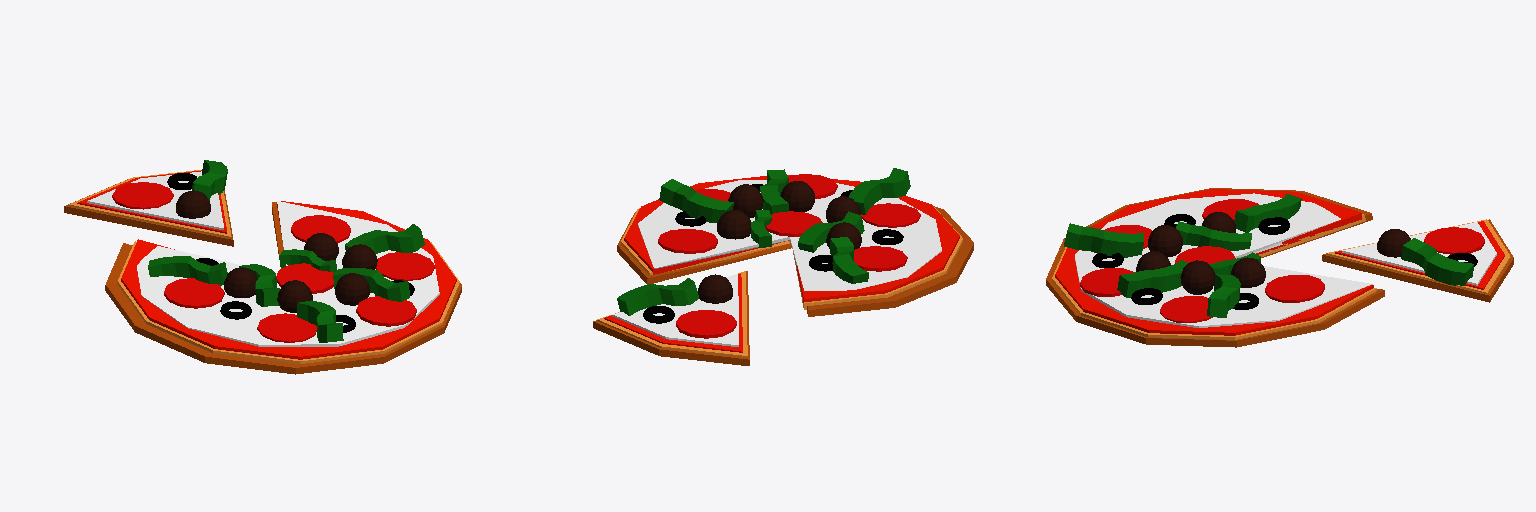
3 renders of one model, left to right at view 1: azimuth 30°, elevation 25°; view 2: azimuth 150°, elevation 25°; view 3: azimuth 270°, elevation 25°, orthographic.
Visible parts, largest first — view 1: group[number redacted], group[number redacted], group[number redacted], group[number redacted], group[number redacted], group[number redacted], group[number redacted], group[number redacted]; view 2: group[number redacted], group[number redacted], group[number redacted], group[number redacted], group[number redacted], group[number redacted], group[number redacted], group[number redacted]; view 3: group[number redacted], group[number redacted], group[number redacted], group[number redacted], group[number redacted], group[number redacted], group[number redacted], group[number redacted].
Part boxes in pixels (x1,y1,x2,y2): group[number redacted]: (105,201,461,374); group[number redacted]: (87,171,223,229); group[number redacted]: (64,179,233,246); group[number redacted]: (112,182,173,209); group[number redacted]: (69,170,231,238); group[number redacted]: (192,160,227,200); group[number redacted]: (176,190,210,218); group[number redacted]: (77,170,226,233); group[number redacted]: (617,168,973,316); group[number redacted]: (612,274,738,346); group[number redacted]: (617,278,698,315); group[number redacted]: (593,271,749,365); group[number redacted]: (676,310,736,338); group[number redacted]: (597,271,747,357); group[number redacted]: (604,273,742,352); group[number redacted]: (698,274,732,303); group[number redacted]: (1046,188,1384,347); group[number redacted]: (1401,238,1473,285); group[number redacted]: (1322,219,1513,302); group[number redacted]: (1342,222,1496,285); group[number redacted]: (1424,227,1484,254); group[number redacted]: (1326,219,1510,293); group[number redacted]: (1335,221,1504,289); group[number redacted]: (1377,229,1410,257).
Bounding box in the file's own units: 0.9878 × 0.1509 × 1.29.